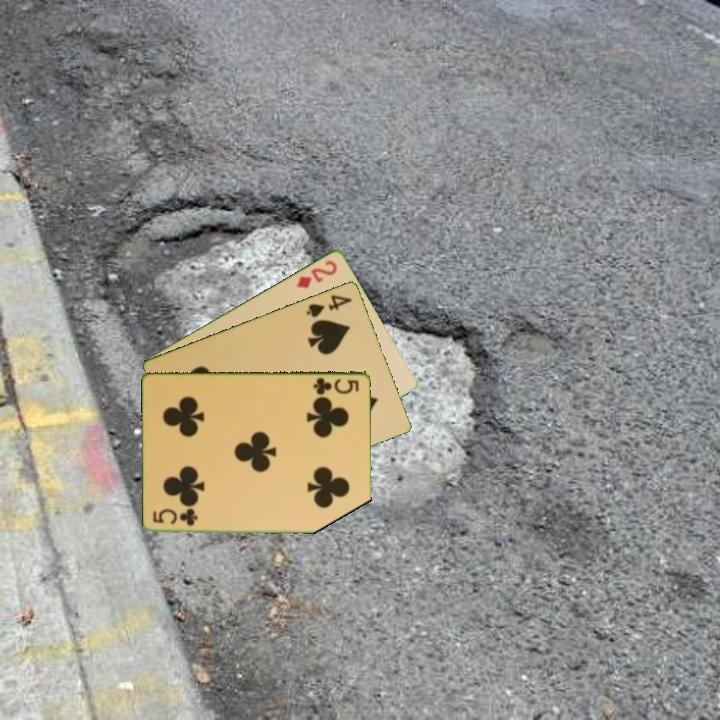2d: (293, 256, 340, 291)
4s: (303, 291, 355, 320)
5c: (310, 374, 362, 397), (150, 507, 201, 528)
